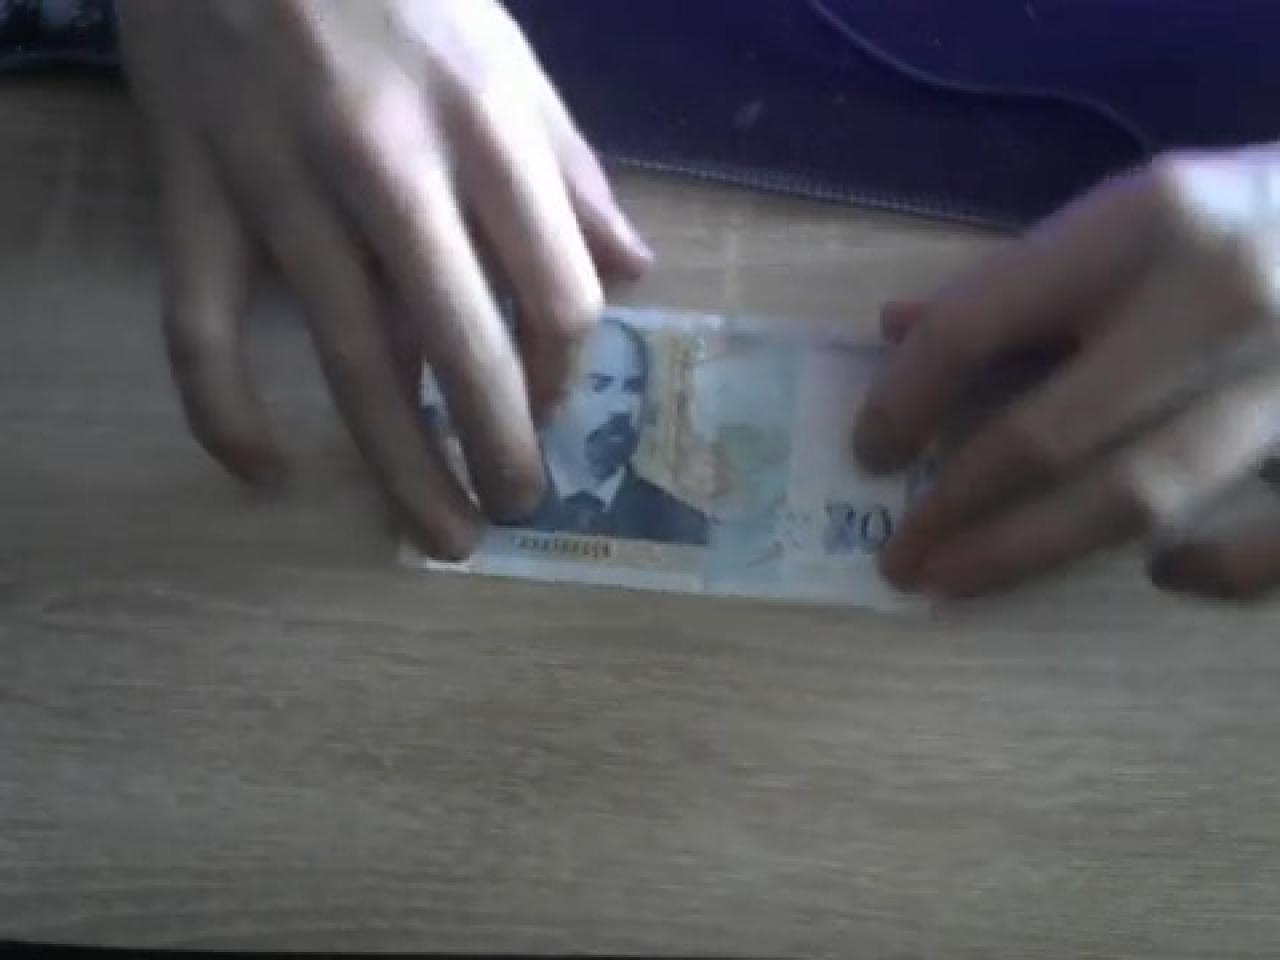20leva: (480, 310, 915, 613)
